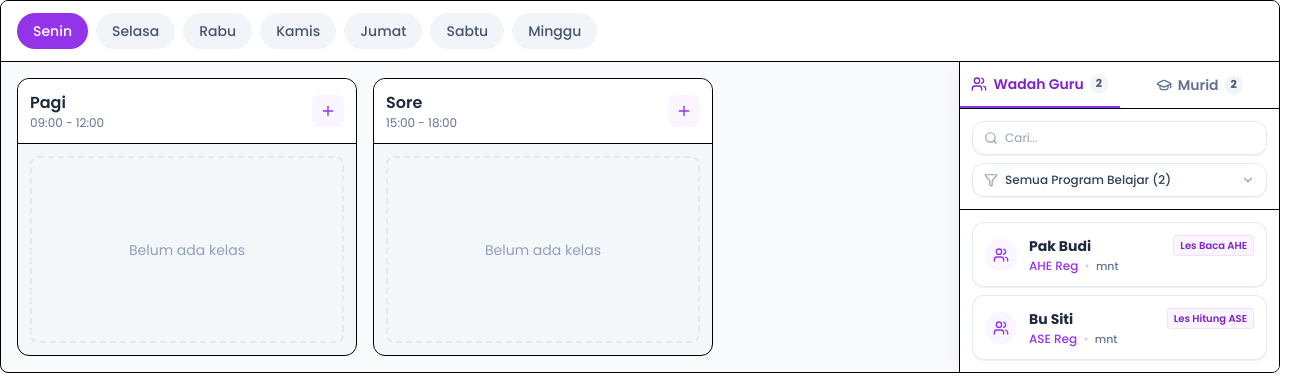
KanbanBoard Component › filters sidebar items based on program dropdown
The width and height of the screenshot is (1292, 390).
expect the text "Pak Budi" is shown: met, box [1029,236,1091,256]
expect the text "Bu Siti" is shown: met, box [1029,308,1073,328]
Select "Program: Les Baca AHE" in the dropdown named "Filter berdasarkan program belajar". click: (1120, 180)
box: [972,163,1267,197]
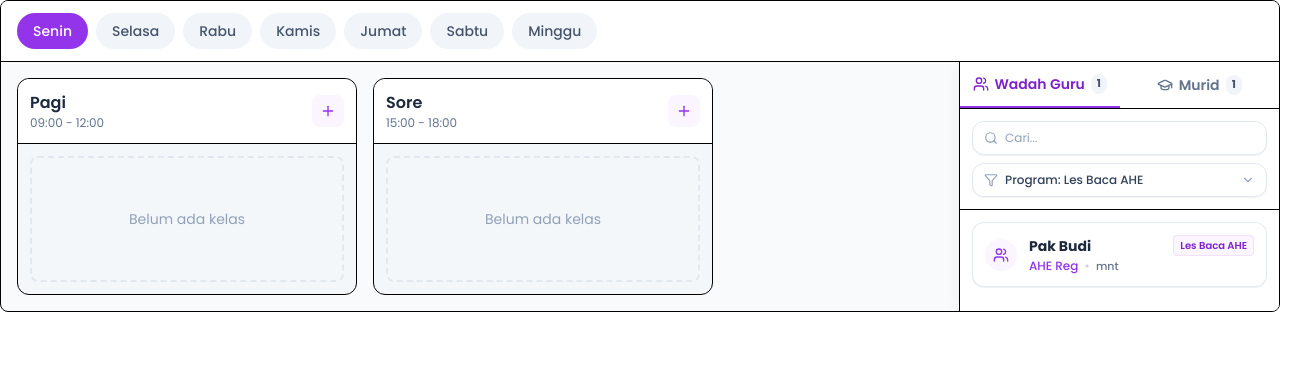
expect the text "Pak Budi" is shown: met, box [1029,236,1091,256]
expect the text "Bu Siti" is gone: met
Click the text "Murid". click: (1199, 85)
box: [1179,75,1220,95]
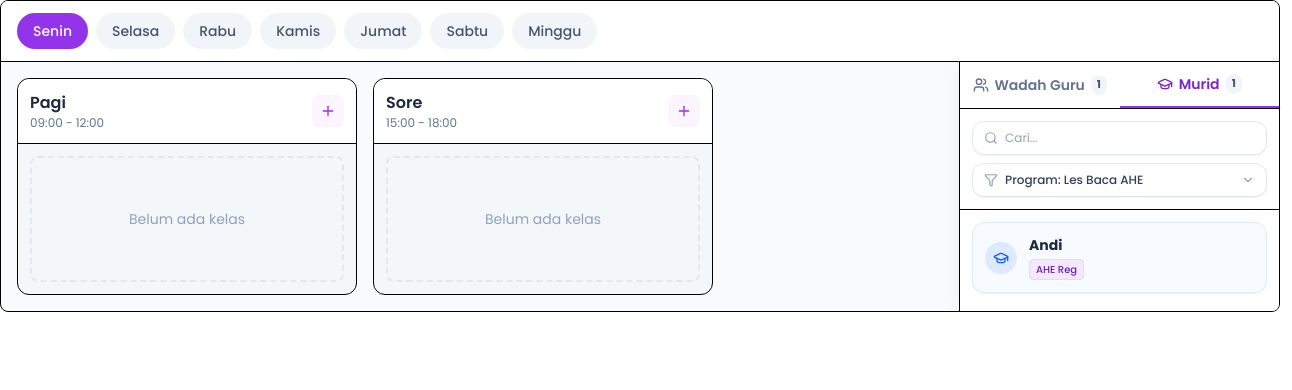
expect the text "Andi" is shown: met, box [1029,235,1062,255]
expect the text "Budi" is gone: met
Select "Program: Les Hitung ASE" in the dropdown named "Filter berdasarkan program belajar". click: (1120, 180)
box: [972,163,1267,197]
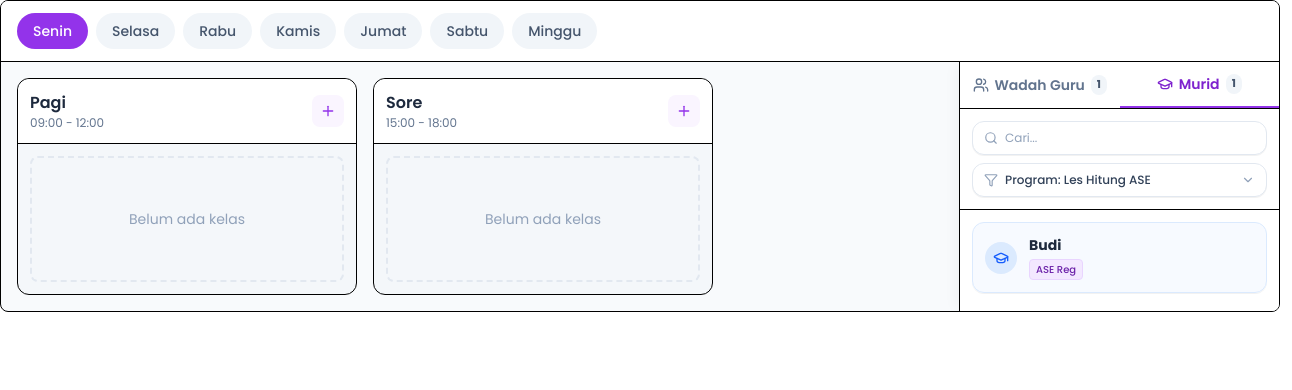
expect the text "Andi" is gone: met
expect the text "Budi" is shown: met, box [1029,235,1061,255]
